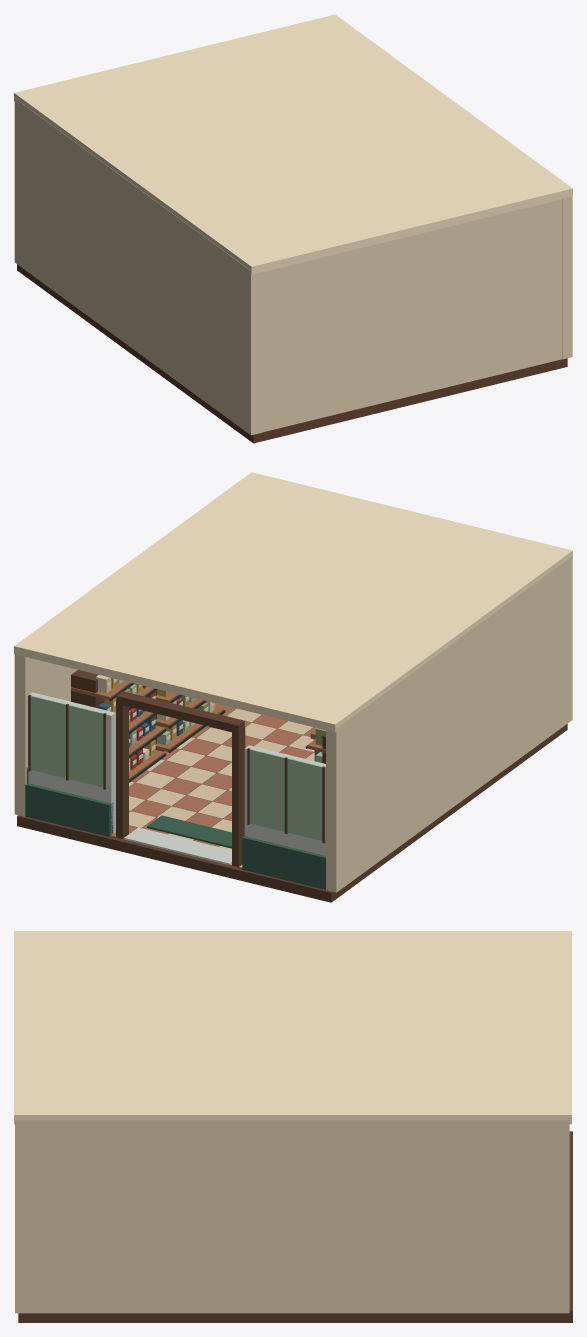
Rendered from PV_ShopInterior.fbx.
The picture shows the model from 3 angles, top to bottom: view 1: azimuth 30°, elevation 25°; view 2: azimuth 150°, elevation 25°; view 3: azimuth 270°, elevation 25°; orthographic projection. The views are drawn at different scales.
Parts seen in each view (by area): view 1: PV_ShopInterior; view 2: PV_ShopInterior; view 3: PV_ShopInterior.
Boxes of the visible parts, x1,y1,x2,y2 form: PV_ShopInterior: [14, 14, 572, 443]; PV_ShopInterior: [14, 472, 572, 902]; PV_ShopInterior: [14, 931, 572, 1322].
Size of the model in its own units: 676 by 359 by 866.
